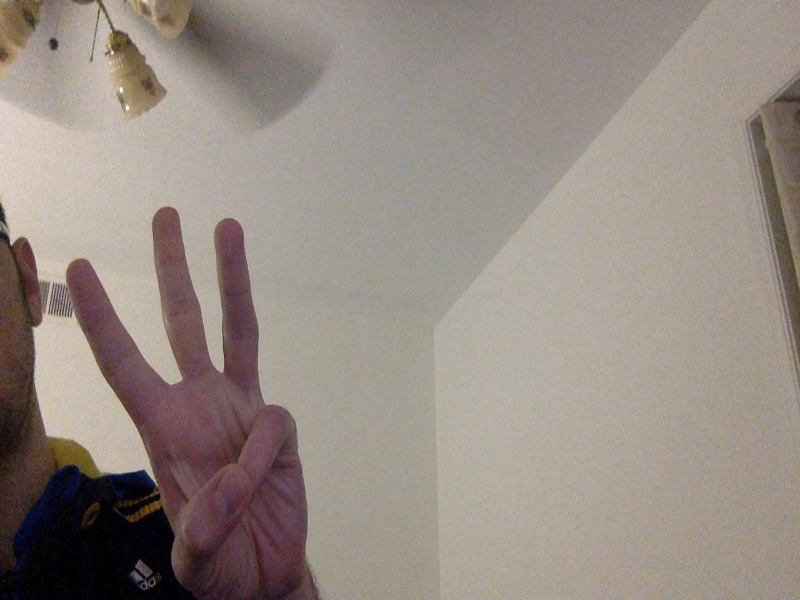3-hand: (67, 206, 312, 584)
